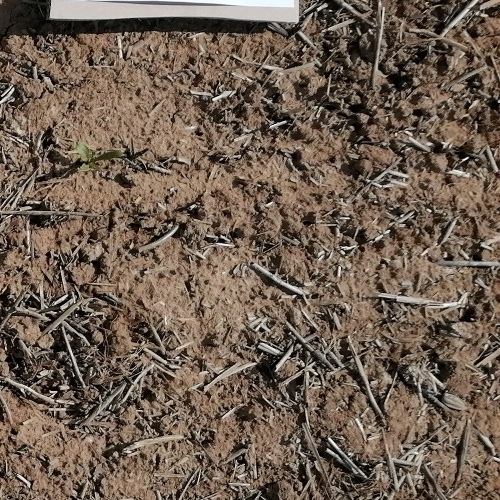beet: (73, 141, 124, 173)
